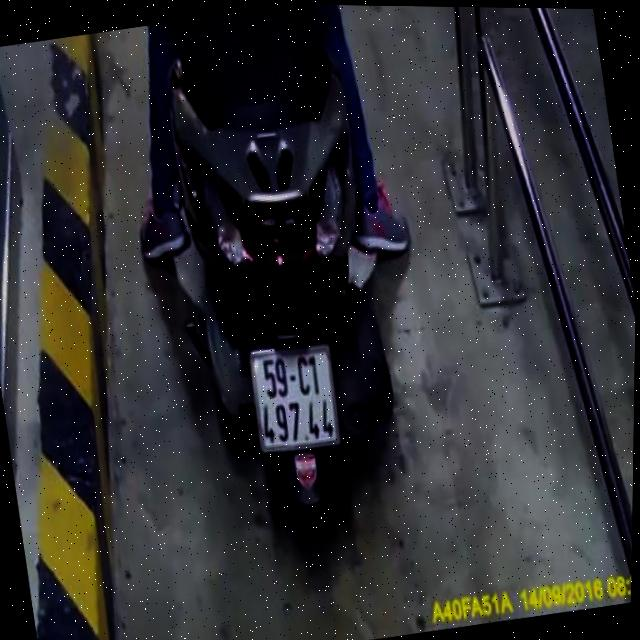motorcycle: (122, 2, 446, 557)
plate: (241, 333, 347, 458)
